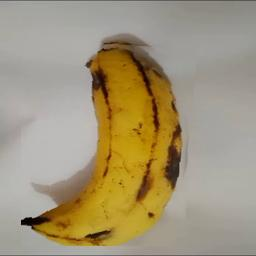Banana Semifresh: (21, 38, 197, 246)
